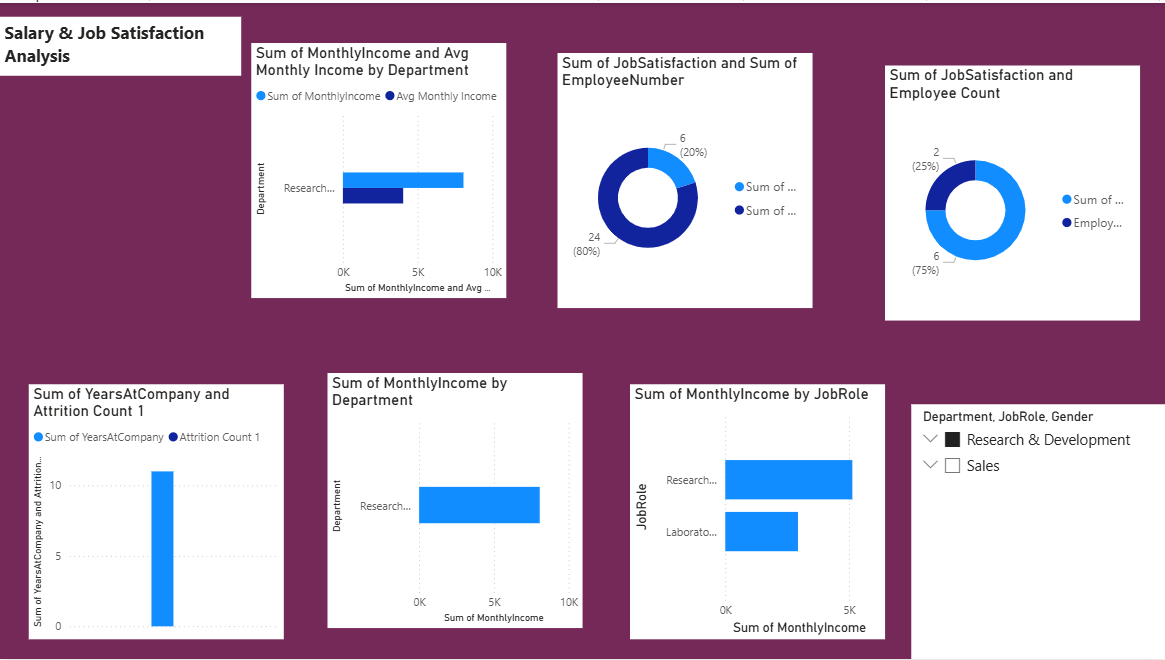

Layout of this report page (visuals, bound fields, positions):
{"tool":"powerbi","page":{"name":"Salary & Satisfaction Analysis","canvas":[1280,720],"ordinal":2},"visuals":[{"type":"clusteredBarChart","fields":{"Category":["HR Employee.Department"],"Y":["Sum(HR Employee.MonthlyIncome)","HR Employee.Avg Monthly Income"]},"box":[275.8,43.9,279.9,279.9],"z":0},{"type":"donutChart","fields":{"Y":["Sum(HR Employee.JobSatisfaction)","Sum(HR Employee.EmployeeNumber)"]},"box":[612,54.9,279.9,279.9],"z":1},{"type":"clusteredBarChart","fields":{"Category":["HR Employee.Department"],"Y":["Sum(HR Employee.MonthlyIncome)"]},"box":[359.5,406.2,279.9,279.9],"z":2},{"type":"donutChart","fields":{"Y":["Sum(HR Employee.JobSatisfaction)","HR Employee.Employee Count"]},"box":[971.5,68.6,279.9,279.9],"z":4},{"type":"clusteredBarChart","fields":{"Category":["HR Employee.JobRole"],"Y":["Sum(HR Employee.MonthlyIncome)"]},"box":[691.6,418.5,279.9,279.9],"z":5},{"type":"clusteredColumnChart","fields":{"Y":["Sum(HR Employee.YearsAtCompany)","HR Employee.Attrition Count 1"]},"box":[31.6,418.5,279.9,279.9],"z":6},{"type":"slicer","fields":{"Values":["HR Employee.Department","HR Employee.JobRole","HR Employee.Gender"]},"box":[1000.3,440.5,279.9,279.9],"z":7},{"type":"textbox","box":[0,15.1,264.8,64.5],"z":8}]}

Visuals, with their boxes in screenshot pixels (x1, y1, x2, y2), scaled from the page's 1280x720 canvas onto the 1165x660 screenshot:
clusteredBarChart - HR Employee.Department x Sum(HR Employee.MonthlyIncome): pyautogui.locateOnScreen(251, 40, 506, 297)
donutChart - Sum(HR Employee.JobSatisfaction) x Sum(HR Employee.EmployeeNumber): pyautogui.locateOnScreen(557, 50, 812, 307)
clusteredBarChart - HR Employee.Department x Sum(HR Employee.MonthlyIncome): pyautogui.locateOnScreen(327, 372, 582, 629)
donutChart - Sum(HR Employee.JobSatisfaction) x HR Employee.Employee Count: pyautogui.locateOnScreen(884, 63, 1139, 319)
clusteredBarChart - HR Employee.JobRole x Sum(HR Employee.MonthlyIncome): pyautogui.locateOnScreen(629, 384, 884, 640)
clusteredColumnChart - Sum(HR Employee.YearsAtCompany) x HR Employee.Attrition Count 1: pyautogui.locateOnScreen(29, 384, 284, 640)
slicer - HR Employee.Department x HR Employee.JobRole: pyautogui.locateOnScreen(910, 404, 1164, 659)
textbox: pyautogui.locateOnScreen(0, 14, 241, 73)
